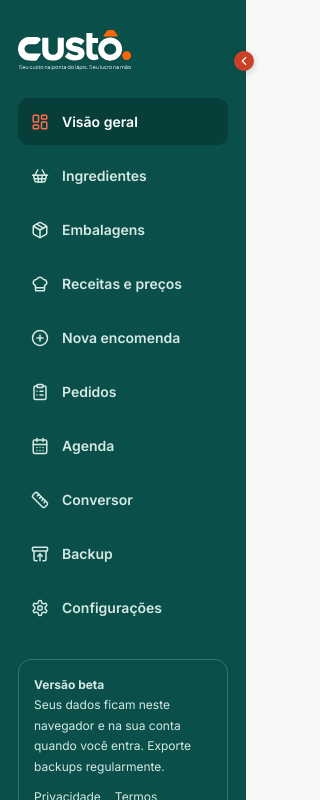
menu lateral › recolhe para ícones com favicon e pode ser expandido novamente
Click the button named "Recolher menu" at (244,61), box [234,51,254,71]
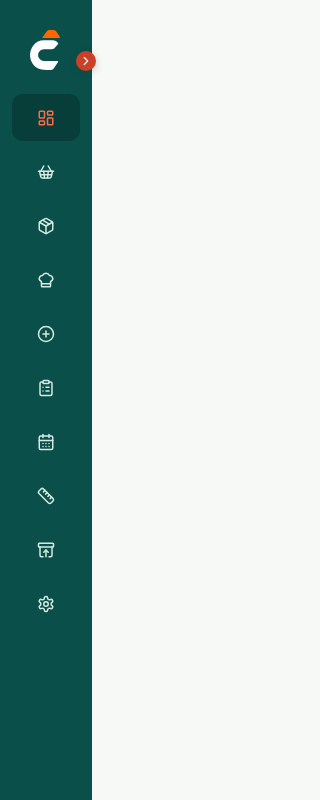
Expected: the button named "Agenda" is shown, [12,418,80,465]
Result: the button named "Expandir menu" is collapsed
Click the button named "Expandir menu" at (86,61), box [76,51,96,71]
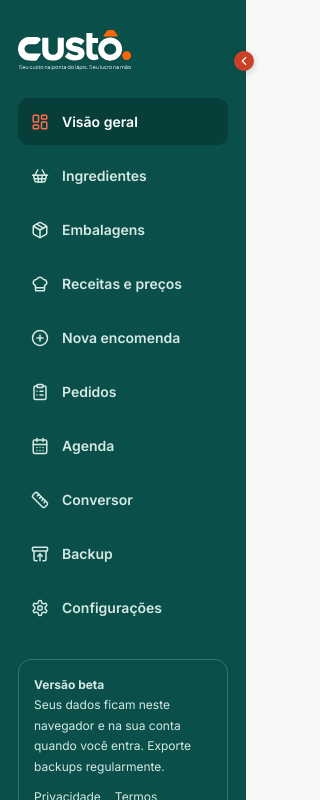
Result: the element named "Menu lateral" does not have class "is-collapsed"
Result: the picture named "Custô" has attribute src="/brand/custo-color.svg" at [18,30,170,70]
